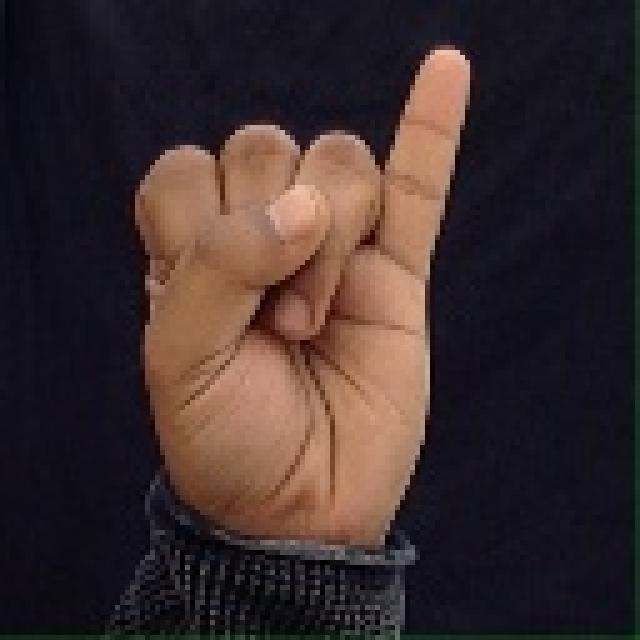Numeric-6: (130, 43, 486, 586)
